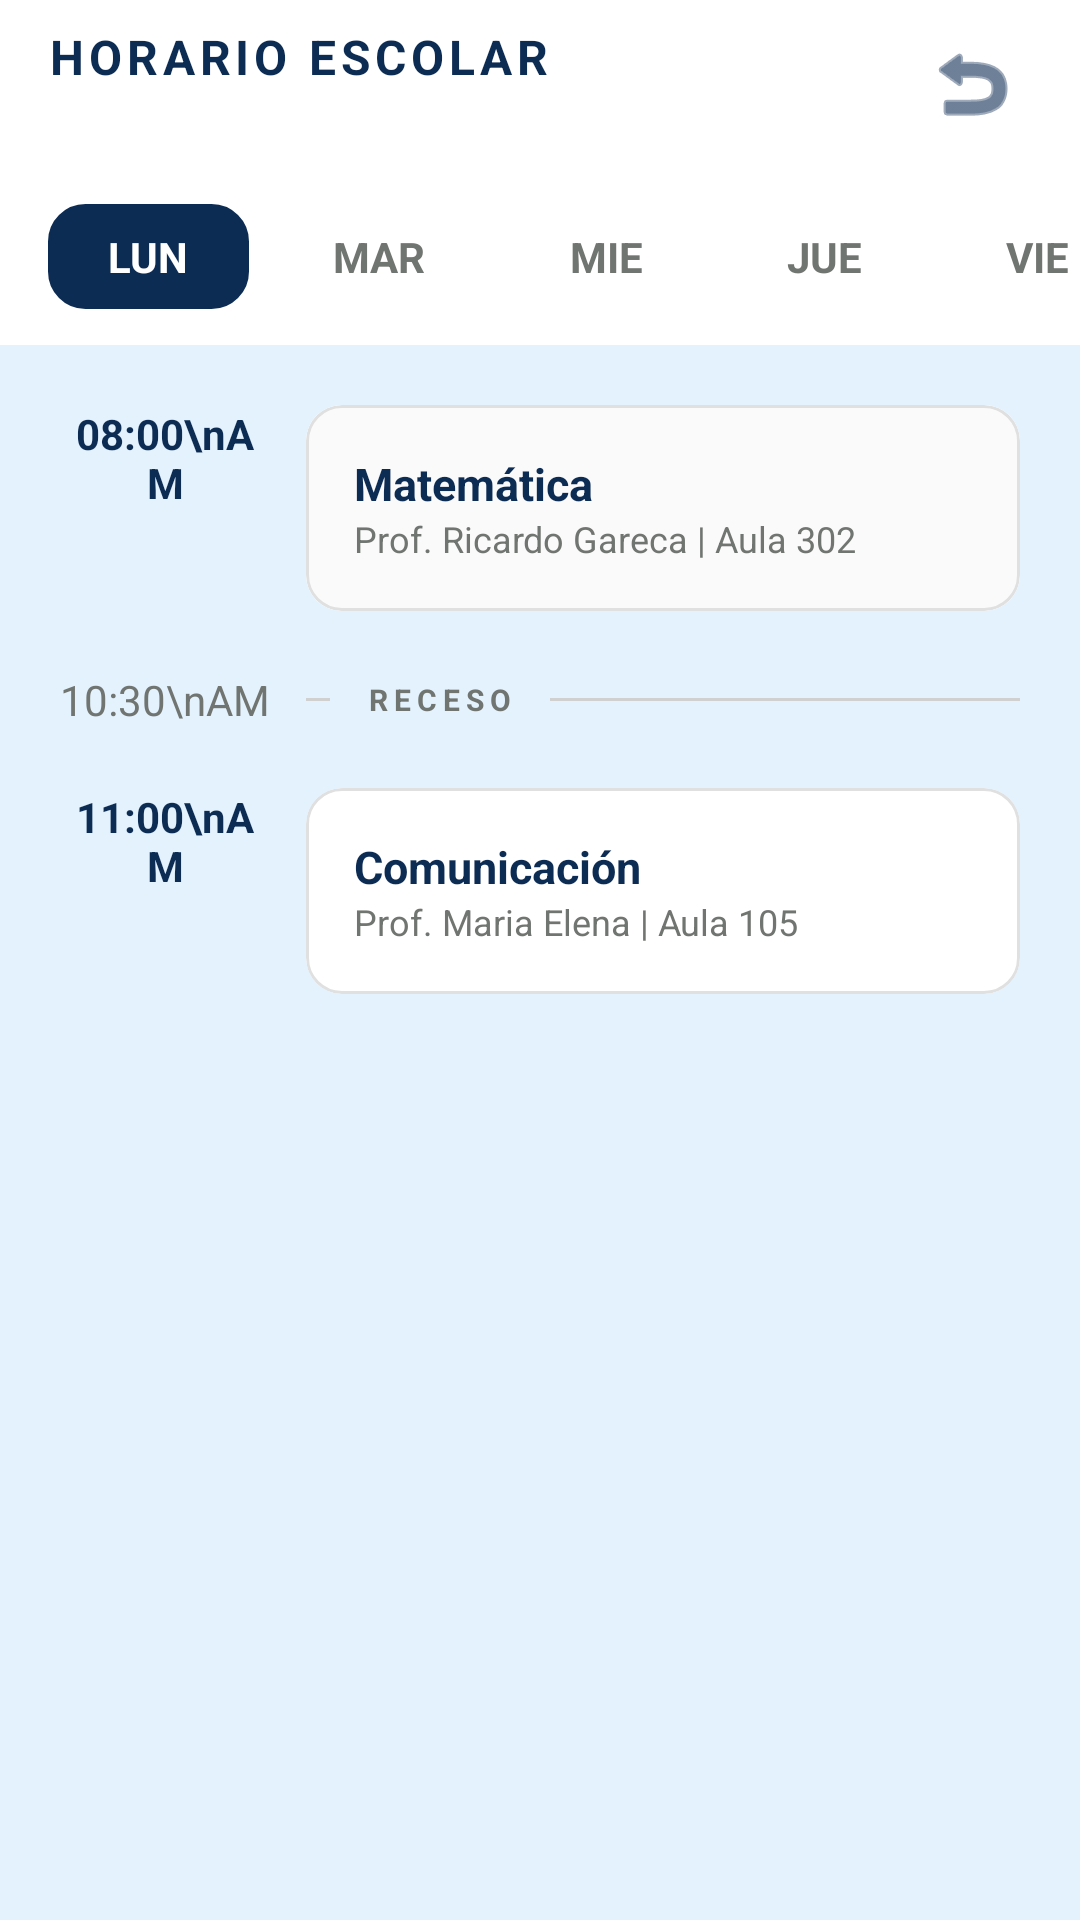

Where to tap for icons on this 1080*1920 app screen, as (x=x, y=y):
revert: (x=973, y=84)
